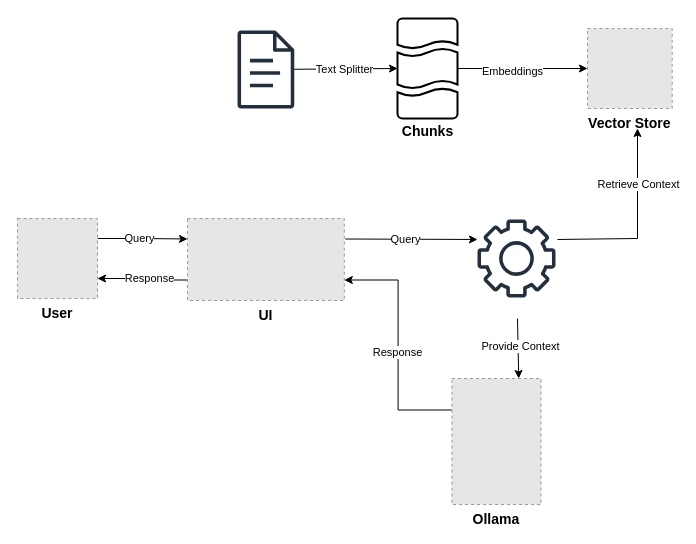
Some shapes in this 696 by 544 pixel diagram are drawn without their labels. Grey dashed boxes stand in for pictures. The centre of each missing label's shape, as x and y in pixels:
Retriever: point 516,258
Uploaded Document: point 265,69
